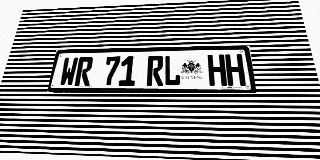1: (118, 56, 136, 86)
7: (102, 56, 121, 86)
H: (225, 54, 246, 86), (207, 54, 227, 86)
L: (164, 55, 181, 86)
R: (74, 57, 94, 86), (146, 55, 164, 86)
W: (58, 57, 79, 86)
